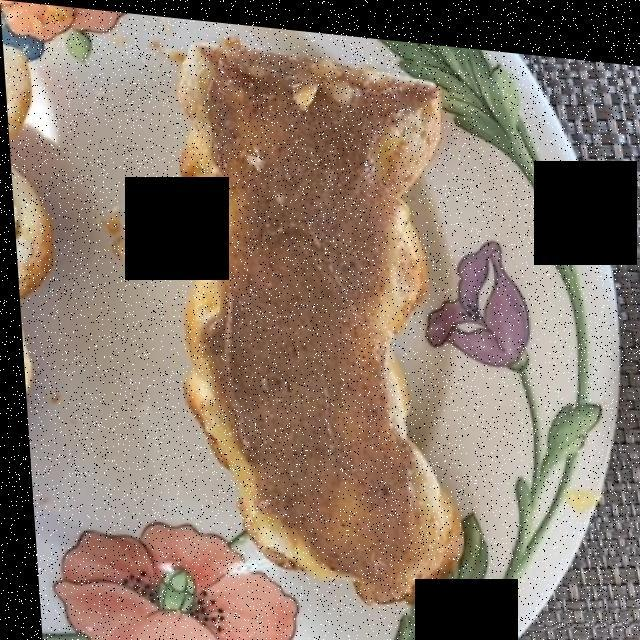bread: (182, 47, 460, 574)
butter: (196, 53, 426, 551)
